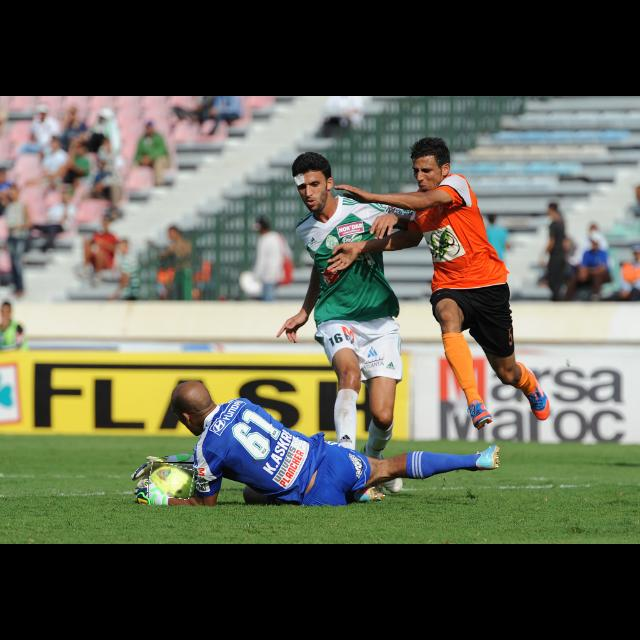Football: (148, 462, 194, 498)
